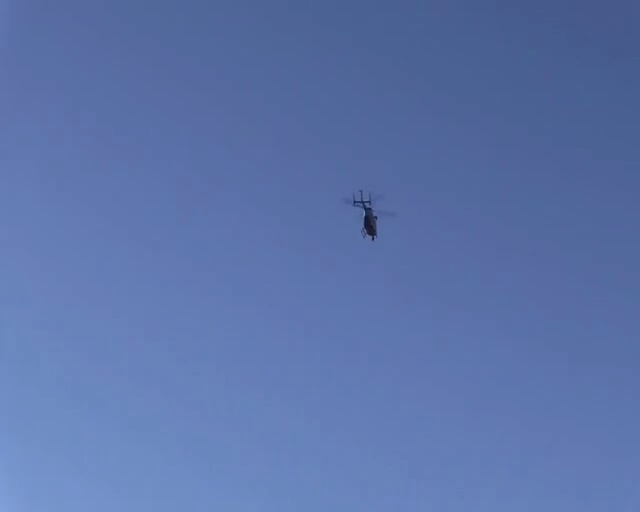HELICOPTER: (342, 188, 398, 241)
